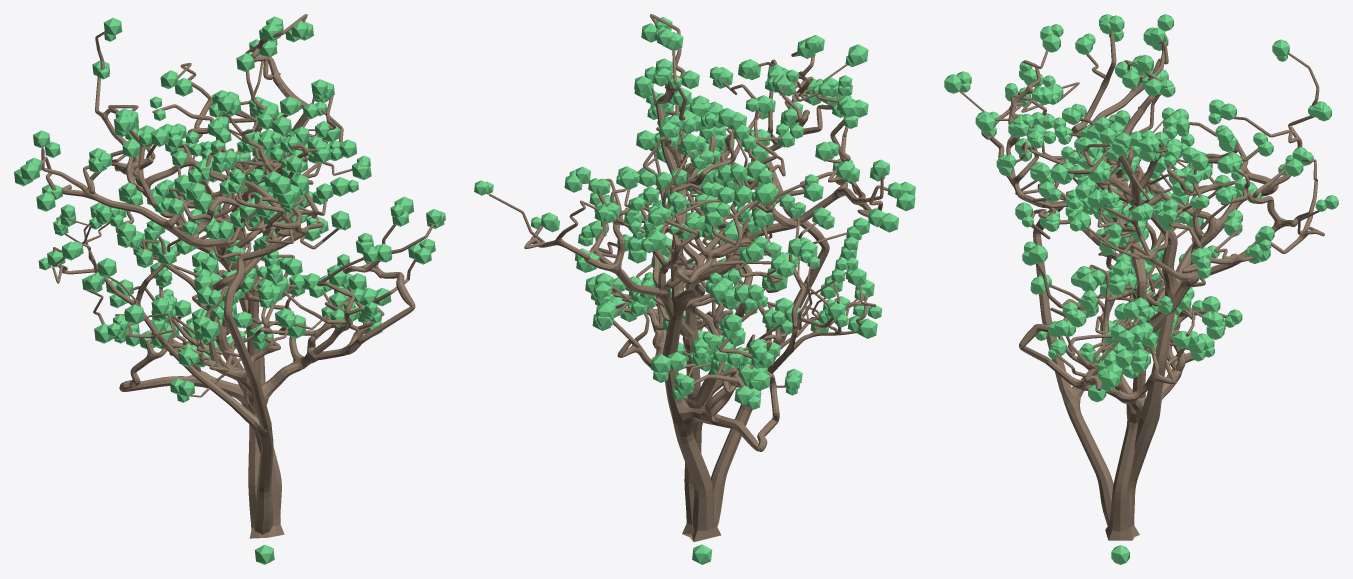
The picture shows the model from 3 angles, left to right: view 1: azimuth 30°, elevation 25°; view 2: azimuth 150°, elevation 25°; view 3: azimuth 270°, elevation 25°; orthographic projection. The views are drawn at different scales.
Parts seen in each view (by area): view 1: Arbusto; view 2: Arbusto; view 3: Arbusto.
Part boxes in pixels (box(x1,y1,x2,y2)): Arbusto: box(41, 14, 434, 538); Arbusto: box(488, 14, 888, 541); Arbusto: box(959, 31, 1324, 540).
Bounding box in the file's own units: 1.59 × 2.11 × 1.44.
